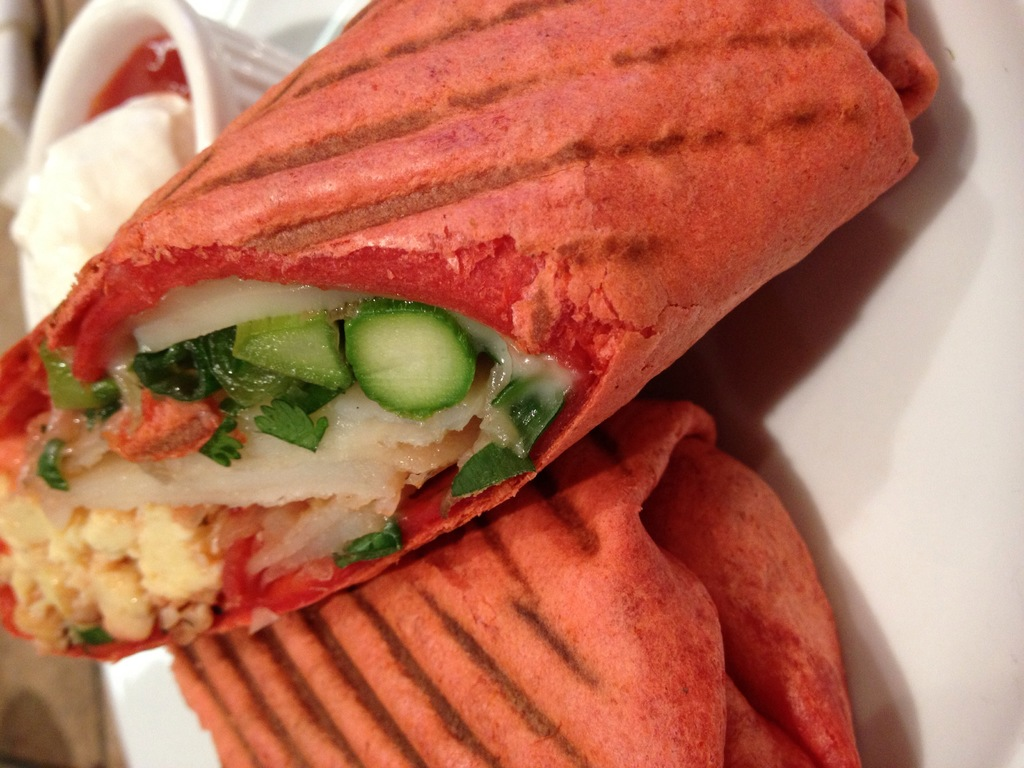salad: (0, 0, 942, 767)
